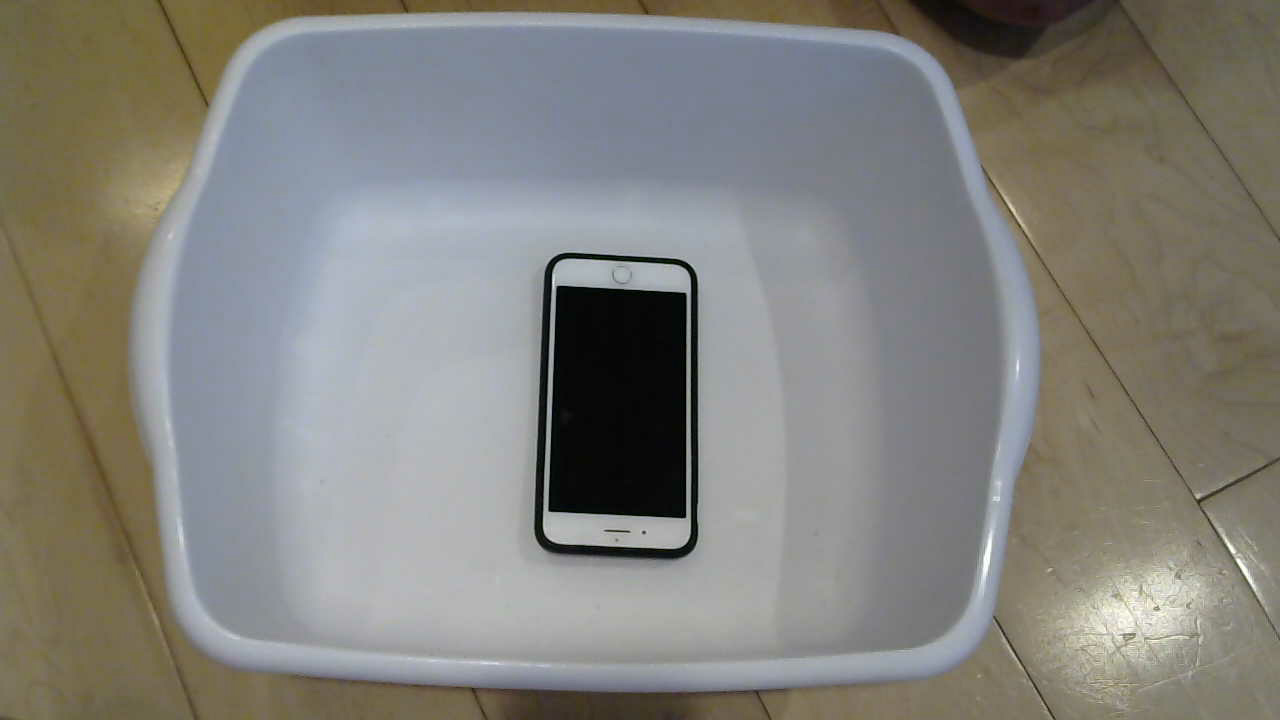phone: (530, 245, 737, 578)
